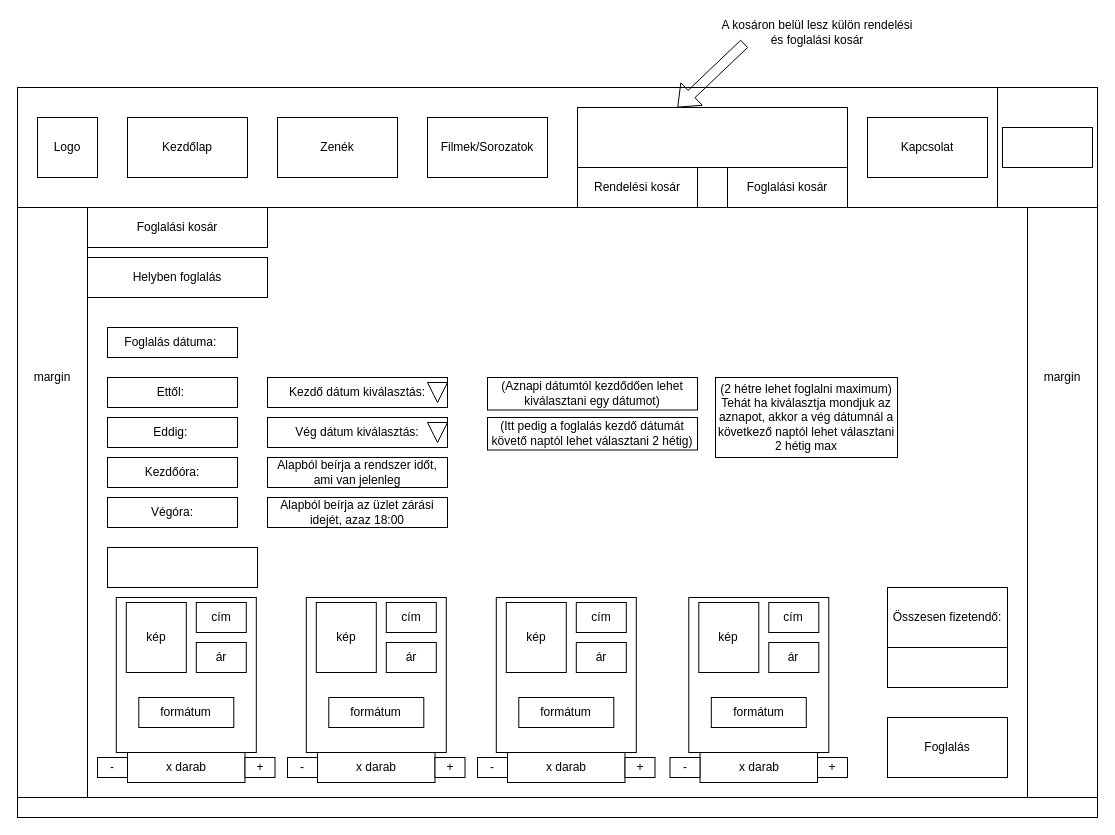
The diagram is 1115 pixels wide and 835 high, and some of its shapes have lost their labels. Here are the shapes that lost their labels. From the top down, the centre of each, then its label:
At (x=712, y=137): "Kosár".
At (x=1047, y=147): "Fiók bej/reg".
At (x=182, y=567): "Foglalni kívánt termékek:".
At (x=947, y=667): "Y összeg".
At (x=557, y=807): "Footer".
